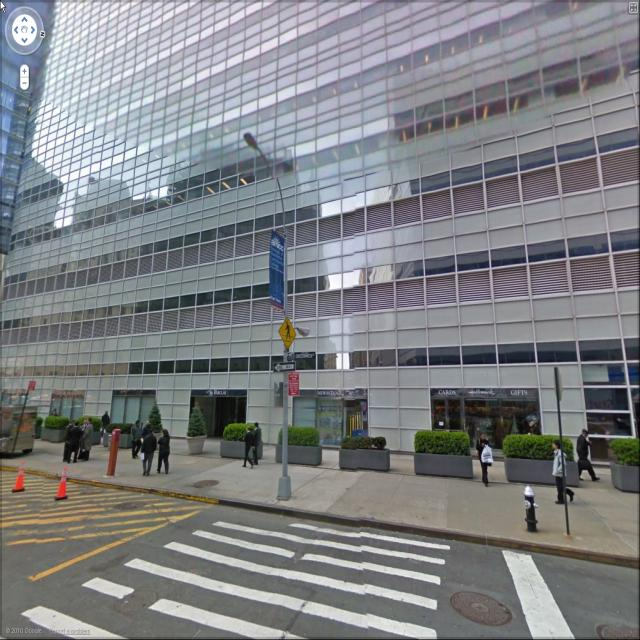b_1: (5, 6, 640, 382), (0, 12, 53, 261)
